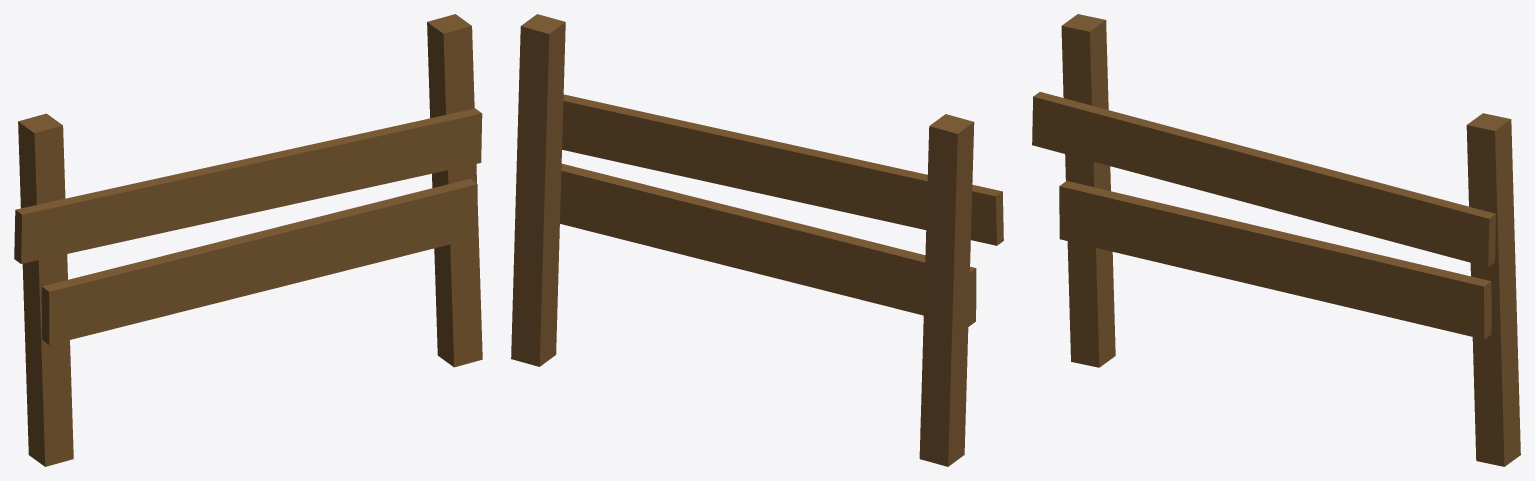
File: rail_1_v1.glb
3 views of the same model, side by side, from view 1: azimuth 30°, elevation 25°; view 2: azimuth 150°, elevation 25°; view 3: azimuth 330°, elevation 25° (orthographic).
Parts seen in each view (by area): view 1: Cube004, Cube004_3, Cube004_2, Cube004_1; view 2: Cube004, Cube004_3, Cube004_1, Cube004_2; view 3: Cube004, Cube004_3, Cube004_1, Cube004_2.
Boxes of the visible parts, <box> form: Cube004: <box>41,179,477,344</box>; Cube004_3: <box>14,108,482,263</box>; Cube004_2: <box>18,113,73,466</box>; Cube004_1: <box>427,14,482,367</box>; Cube004: <box>560,163,976,326</box>; Cube004_3: <box>562,94,1003,245</box>; Cube004_1: <box>511,14,565,366</box>; Cube004_2: <box>919,114,974,466</box>; Cube004: <box>1059,181,1491,339</box>; Cube004_3: <box>1032,92,1495,267</box>; Cube004_1: <box>1466,113,1520,466</box>; Cube004_2: <box>1061,14,1115,367</box>.
Bounding box in the file's own units: 1.78 × 1.22 × 0.1648.
